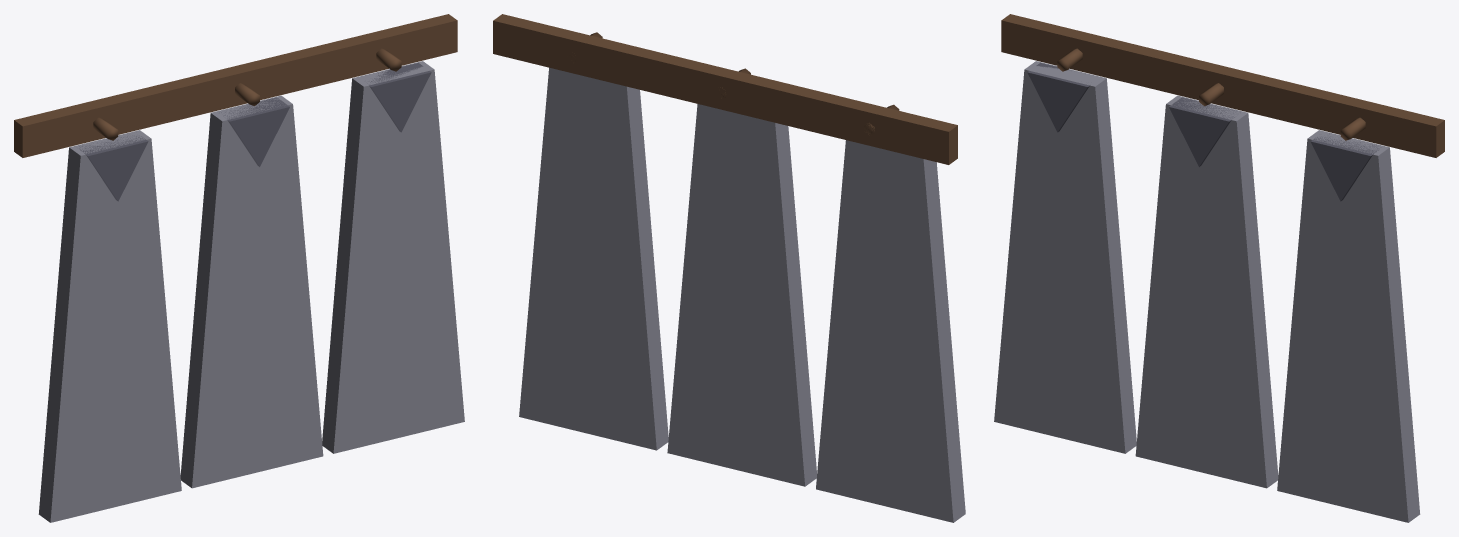
Rendered from cloak_pegs.glb.
3 views of the same model, side by side, from view 1: azimuth 30°, elevation 25°; view 2: azimuth 150°, elevation 25°; view 3: azimuth 330°, elevation 25° (orthographic). The views are drawn at different scales.
Visible parts, largest first — view 1: cloak_pegs; view 2: cloak_pegs; view 3: cloak_pegs.
Part boxes in pixels (x1,y1,x2,y2): cloak_pegs: [14, 14, 464, 522]; cloak_pegs: [493, 14, 965, 522]; cloak_pegs: [994, 14, 1444, 522].
Size of the model in its own units: 0.86 by 0.73 by 0.0975.
